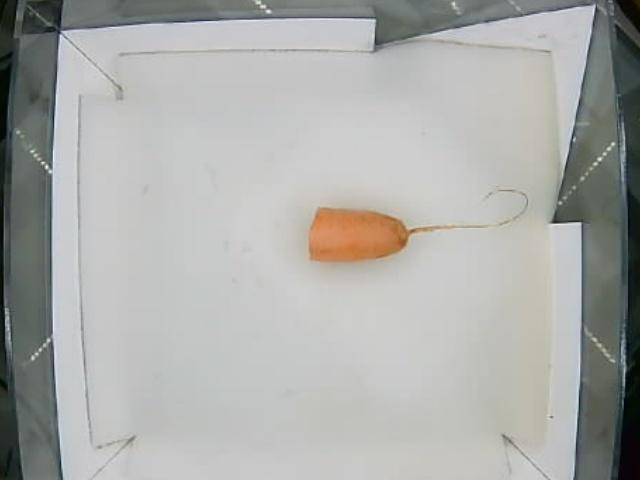Carrot: (305, 201, 415, 264)
